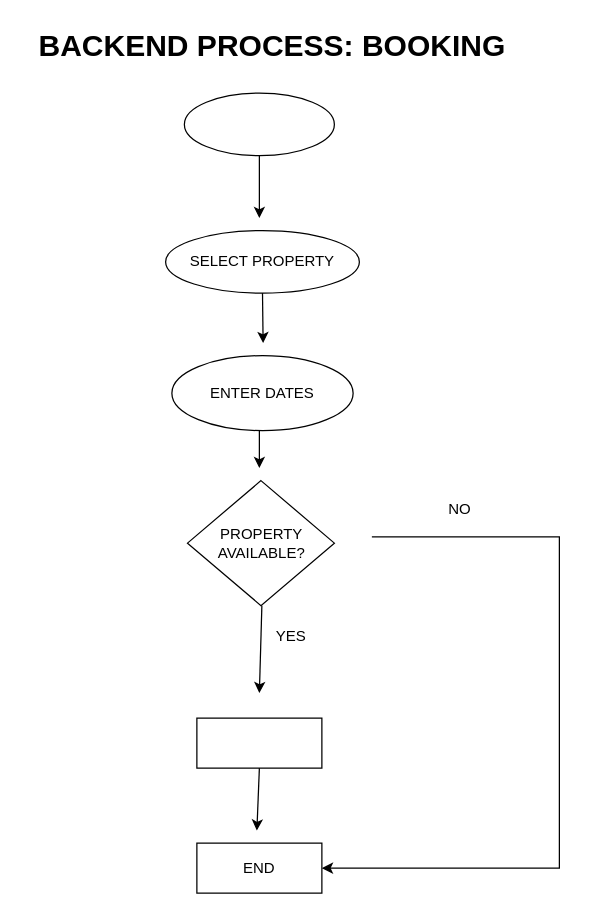
Image size: 591x915. Some labels were removed from this diagram. The shapes that lost their labels are listed below. From the top down, each one's centre as x and y in pixels, then its label:
At pixel 258 124: "START".
At pixel 259 742: "PROCEED TO PAYMENT".
